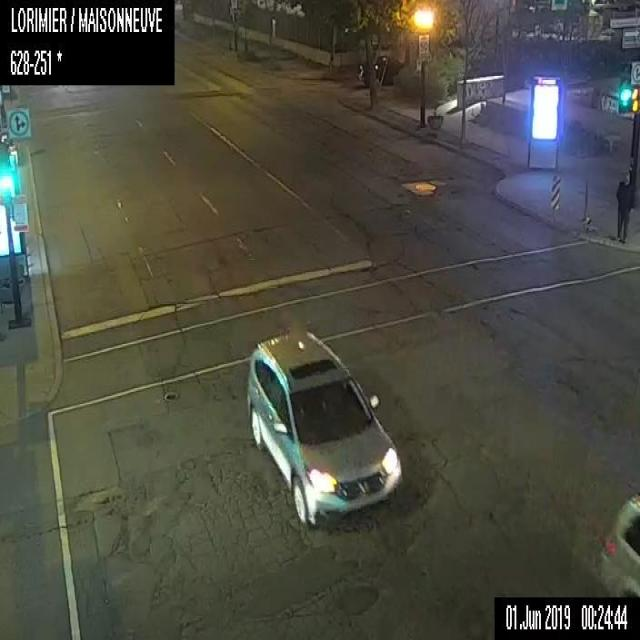pedestrian: (614, 169, 636, 240)
vehicle: (245, 327, 404, 532), (600, 491, 639, 596), (356, 56, 403, 85)
